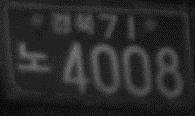0: (121, 44, 152, 96), (90, 44, 120, 94)
1: (125, 14, 137, 42)
4: (60, 40, 90, 94)
7: (95, 10, 118, 40)
8: (155, 46, 184, 98)
경북_O: (50, 11, 94, 34)
노: (17, 39, 51, 75)
